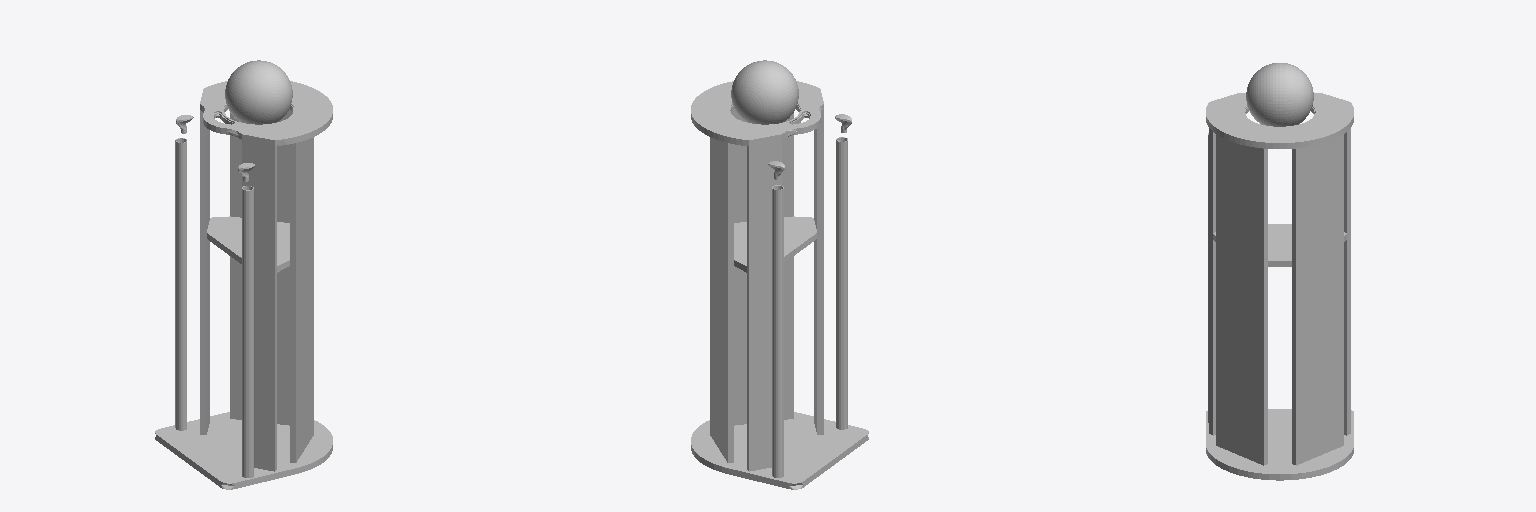
File: spheron.obj
3 views of the same model, side by side, from view 1: azimuth 30°, elevation 25°; view 2: azimuth 150°, elevation 25°; view 3: azimuth 270°, elevation 25° (orthographic).
Parts seen in each view (by area): view 1: Mesh_spheron; view 2: Mesh_spheron; view 3: Mesh_spheron.
Boxes of the visible parts, <box> form: Mesh_spheron: <box>155,60,332,489</box>; Mesh_spheron: <box>691,60,868,489</box>; Mesh_spheron: <box>1206,63,1353,480</box>.
Bounding box in the file's own units: 2.86 × 7.76 × 2.73.